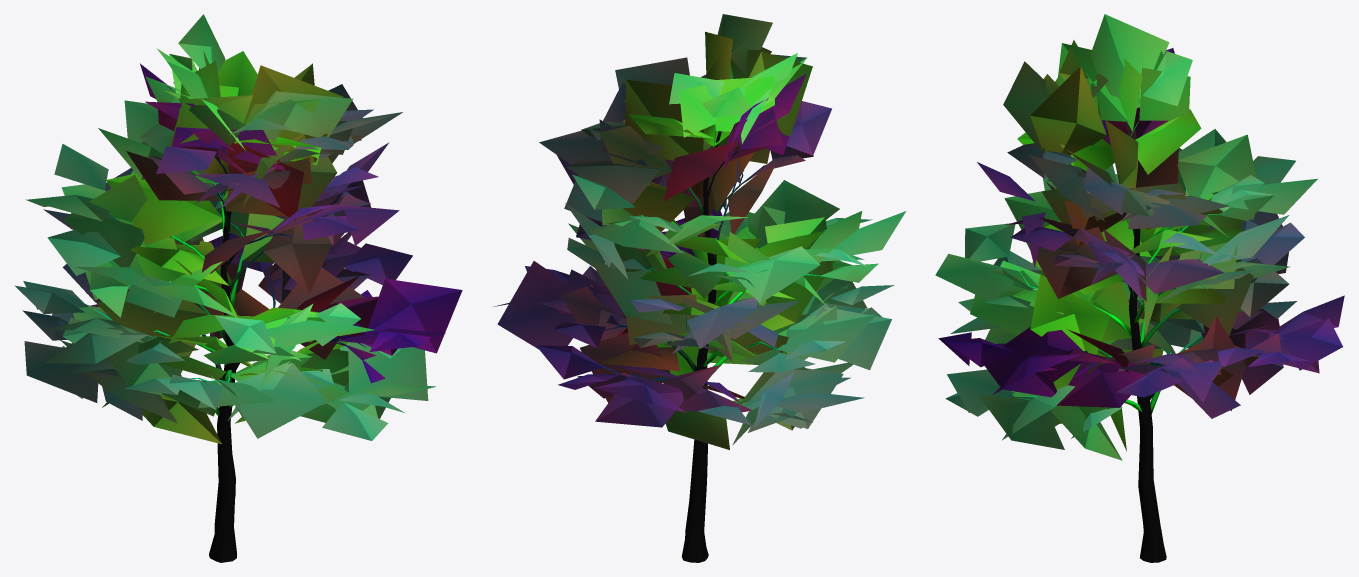
Rendered from SM_WLTree_01.FBX.
The picture shows the model from 3 angles, left to right: view 1: azimuth 30°, elevation 25°; view 2: azimuth 150°, elevation 25°; view 3: azimuth 270°, elevation 25°; orthographic projection. The views are drawn at different scales.
Parts seen in each view (by area): view 1: SM_WLTree_01_LOD0; view 2: SM_WLTree_01_LOD0; view 3: SM_WLTree_01_LOD0.
Part boxes in pixels (<box>): SM_WLTree_01_LOD0: <box>15,14,462,562</box>; SM_WLTree_01_LOD0: <box>493,14,905,562</box>; SM_WLTree_01_LOD0: <box>935,14,1344,562</box>.
Size of what is drawn, in the model's own units: 465 by 636 by 467.
